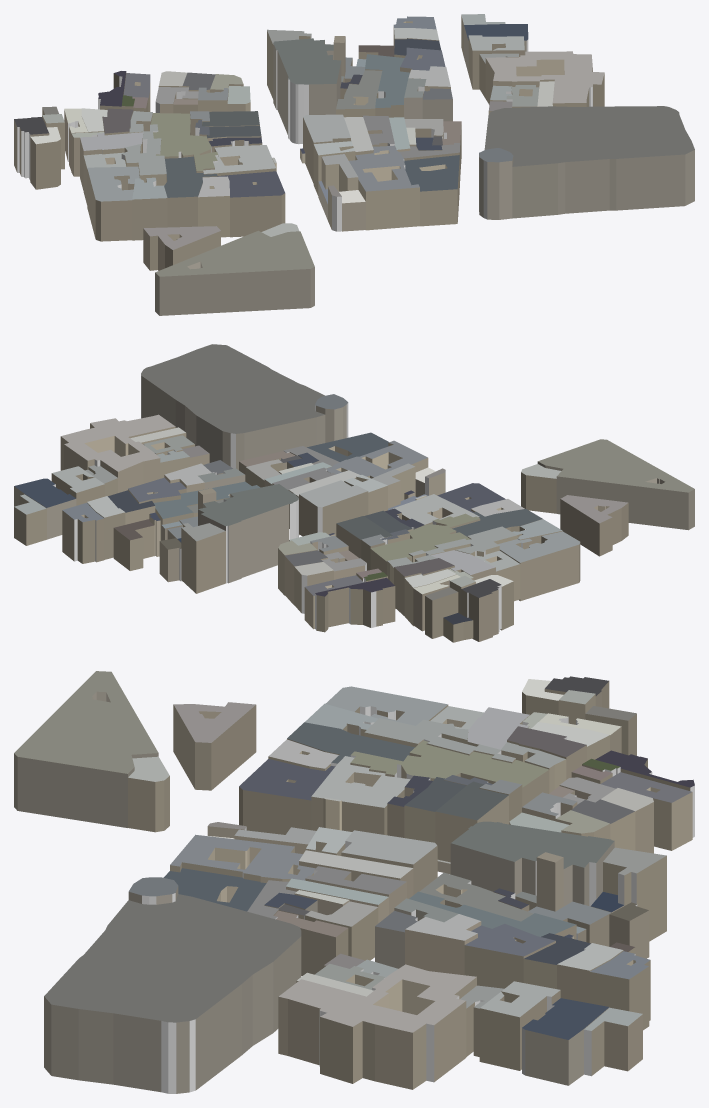
3 renders of one model, top to bottom at view 1: azimuth 30°, elevation 25°; view 2: azimuth 150°, elevation 25°; view 3: azimuth 270°, elevation 25°, orthographic. The views are drawn at different scales.
Parts seen in each view (by area): view 1: tuile; view 2: tuile; view 3: tuile.
Boxes of the visible parts, bbox=[...] form: tuile: bbox=[14, 14, 694, 315]; tuile: bbox=[14, 344, 694, 642]; tuile: bbox=[14, 671, 694, 1093].
Size of the model in its own units: 290 by 36.83 by 226.
